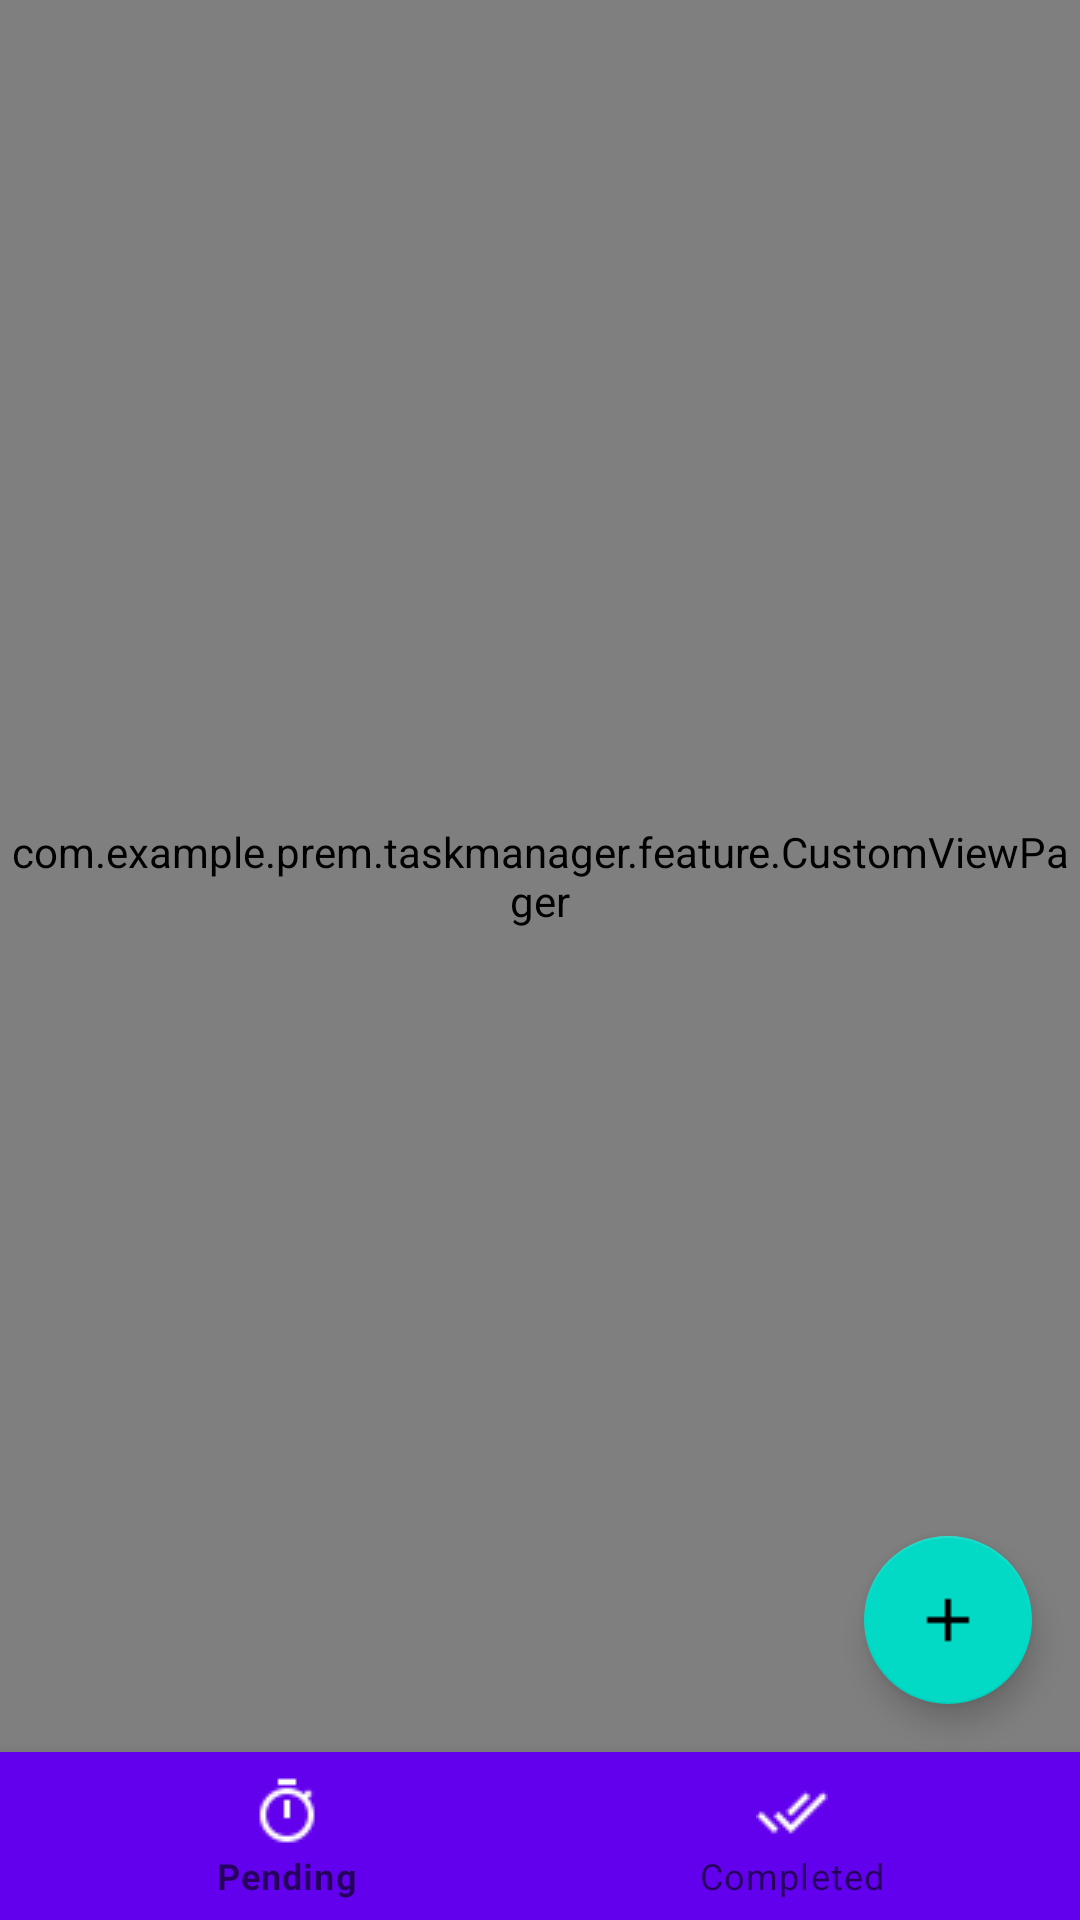

Icon click points for this 1080 × 1920 phone screenshot, format (x,y):
plus: (948,1620)
